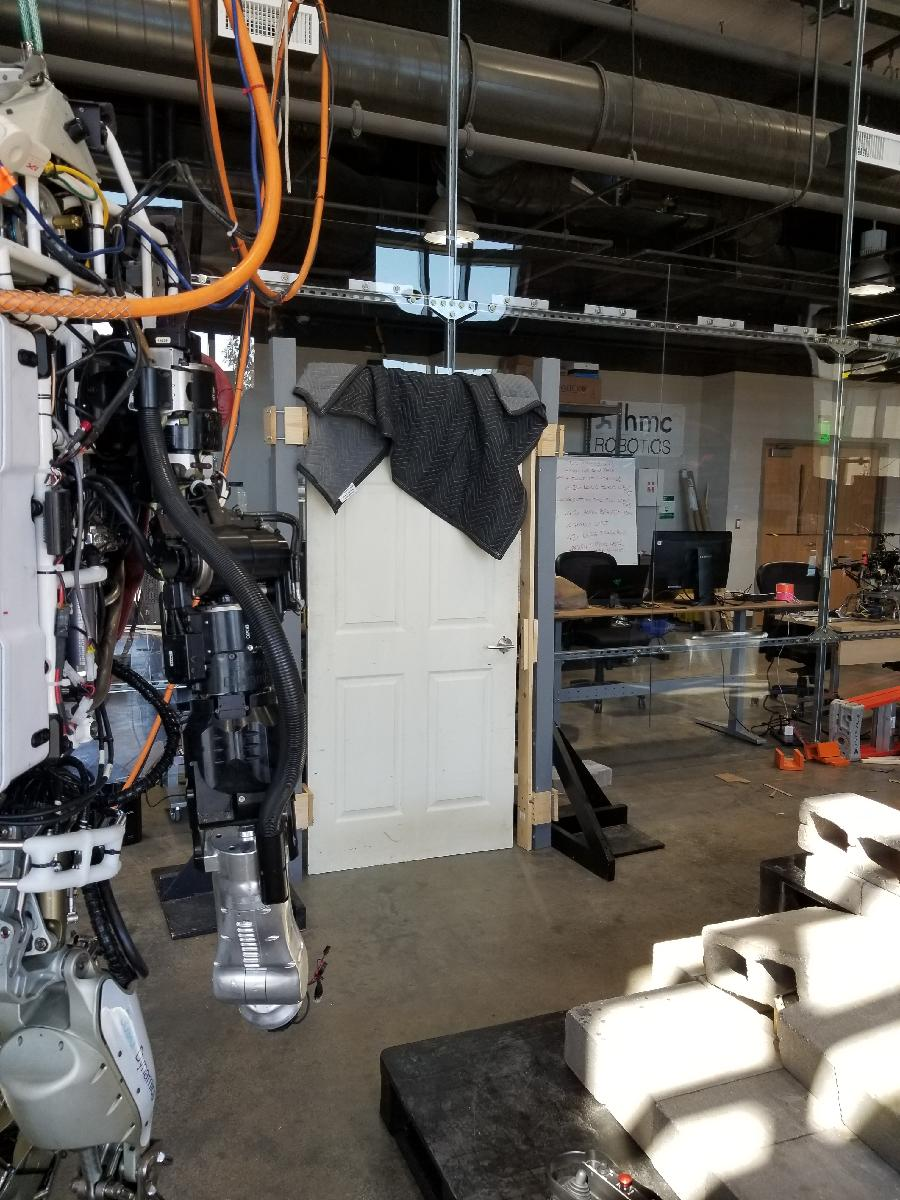door: (295, 389, 518, 884)
doorHandle: (487, 636, 515, 657)
